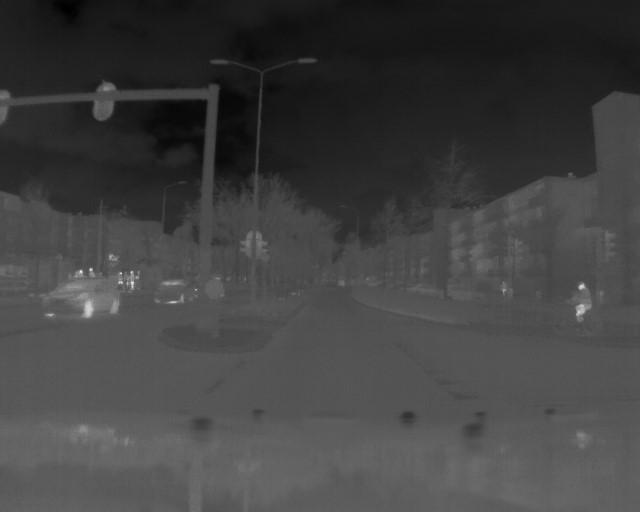car: (41, 273, 121, 318), (154, 277, 198, 306)
person: (566, 278, 594, 325)
